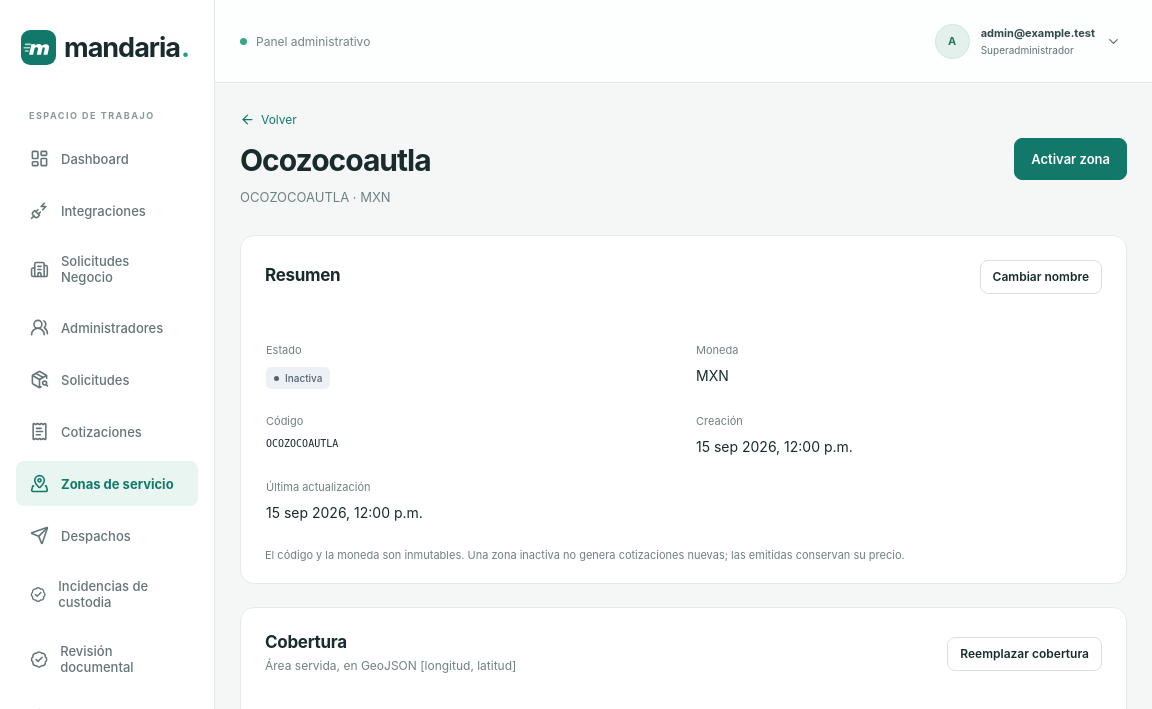
Test: service zone detail › explains the overlap conflict returned when activating
Click the button "Activar zona" at (1071, 159), box 1014,138 -> 1127,180
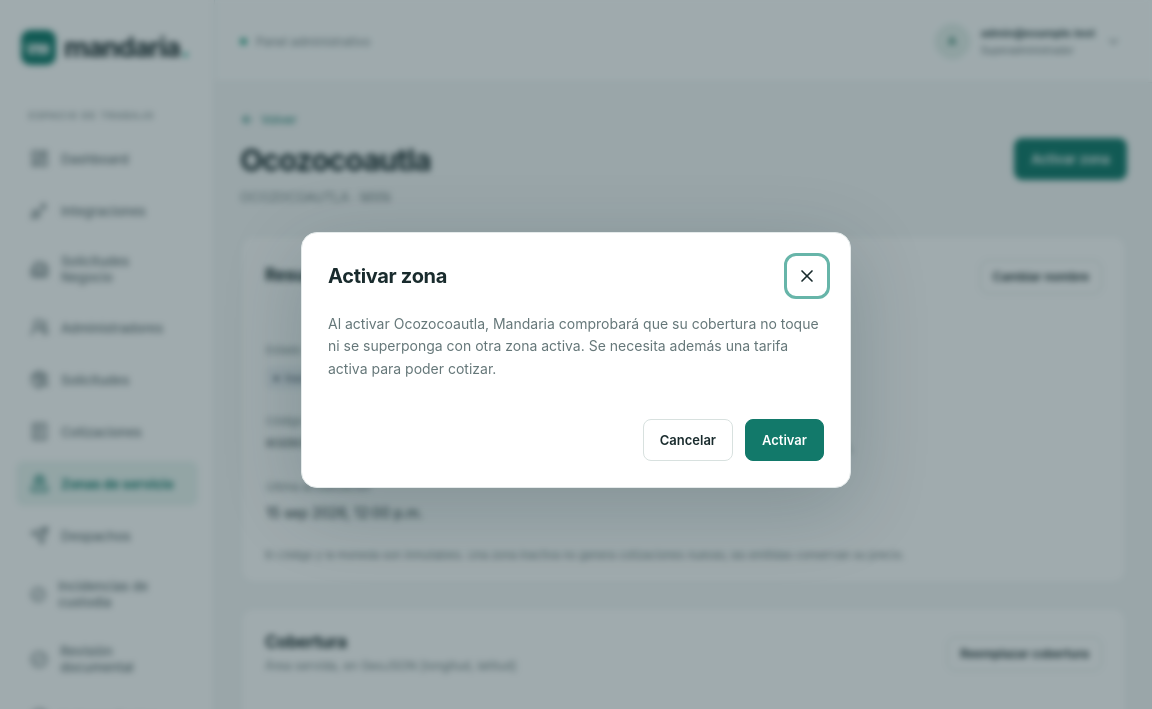
Click the button "Activar" at (784, 440), box 745,419 -> 824,461
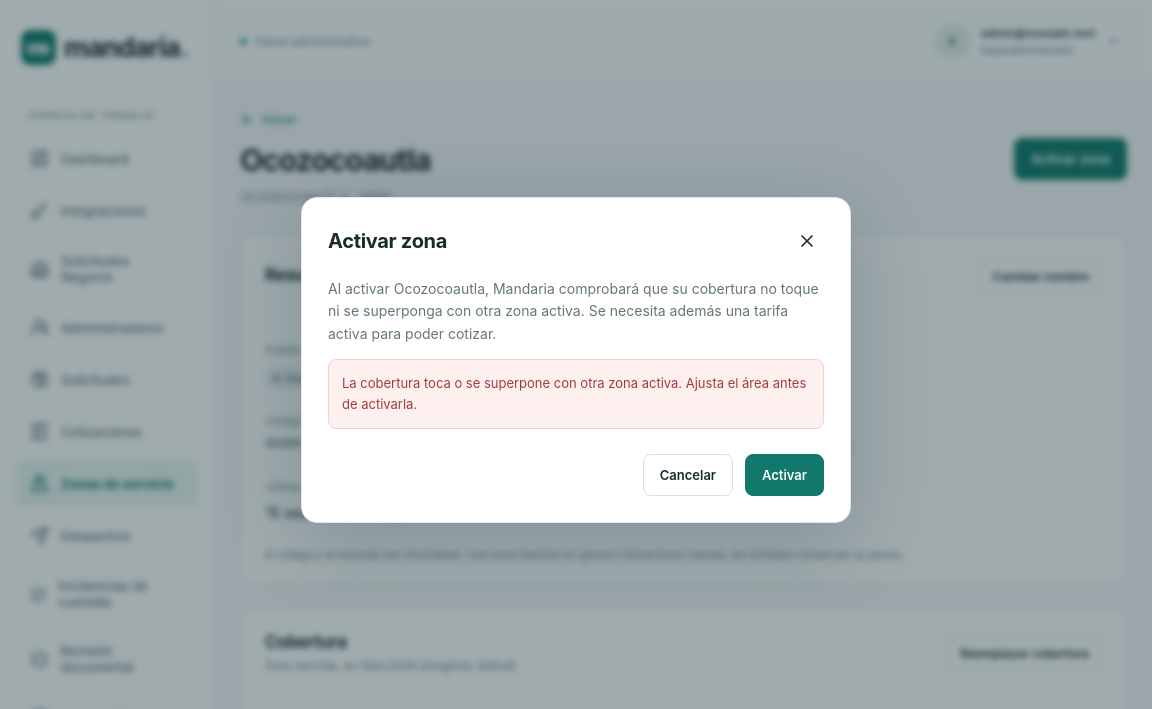
Expected: the message does not show "TUXTLA", 328,359 -> 824,429
Expected: the message shows "se superpone con otra zona activa", 342,375 -> 806,412
